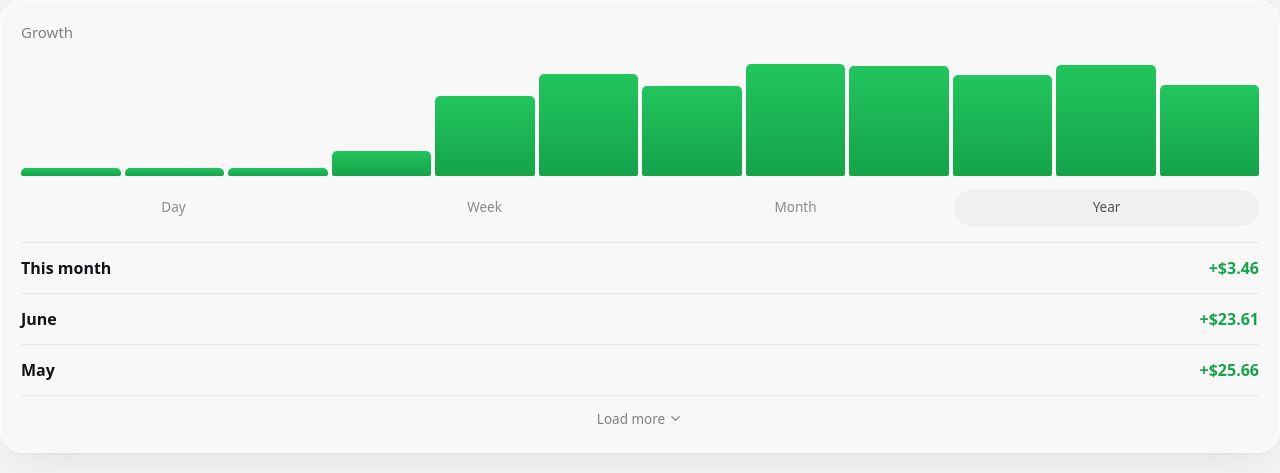
it: switching period redraws the chart
Click the button "Day" at [174, 208], box [21,190,326,226]
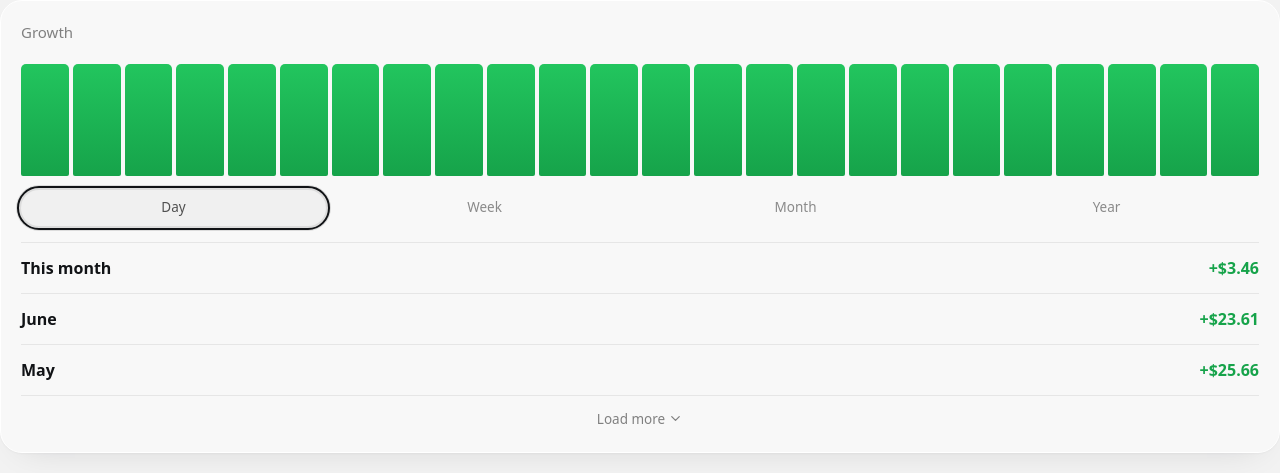
Expected: the number of elements with test id "bar" is 24
